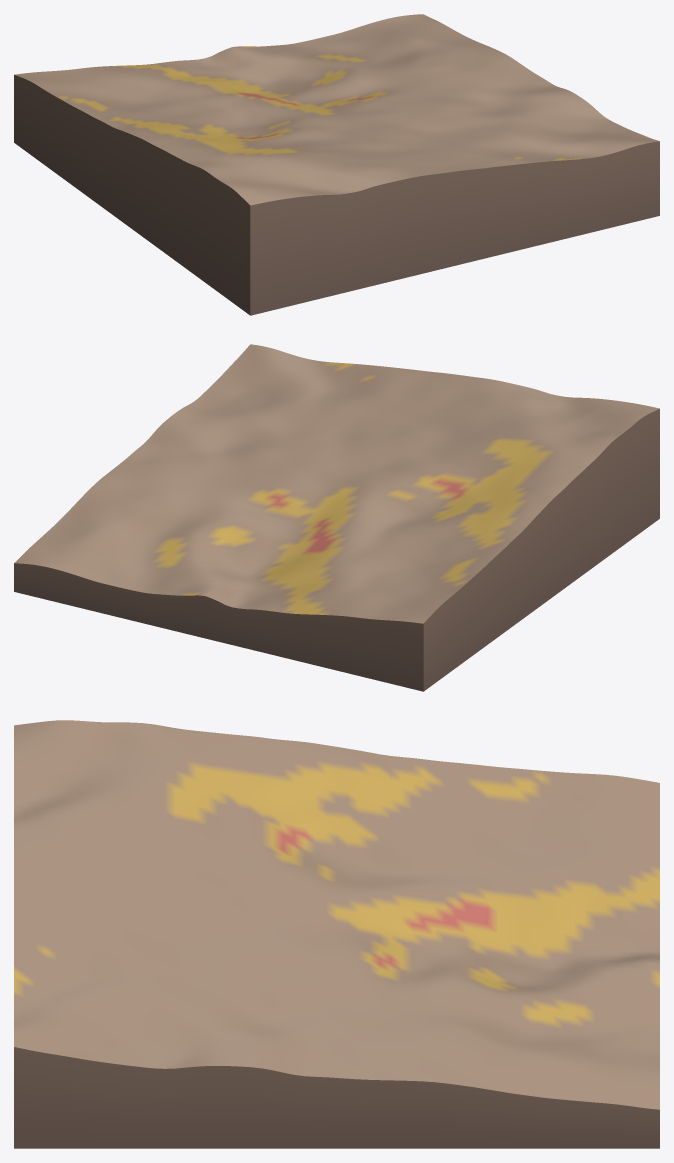
The model's file is wp2-hollow-ridge.glb.
3 views of the same model, one above another, from view 1: azimuth 30°, elevation 25°; view 2: azimuth 150°, elevation 25°; view 3: azimuth 270°, elevation 25° (orthographic). The views are drawn at different scales.
Visible parts, largest first — view 1: wp2-hollow-ridge; view 2: wp2-hollow-ridge; view 3: wp2-hollow-ridge.
Part boxes in pixels (box(x1,y1,x2,y2)): wp2-hollow-ridge: box(14, 14, 659, 315); wp2-hollow-ridge: box(14, 344, 659, 691); wp2-hollow-ridge: box(14, 720, 659, 1148).
Size of the model in its own units: 60.01 by 15.95 by 60.01.
